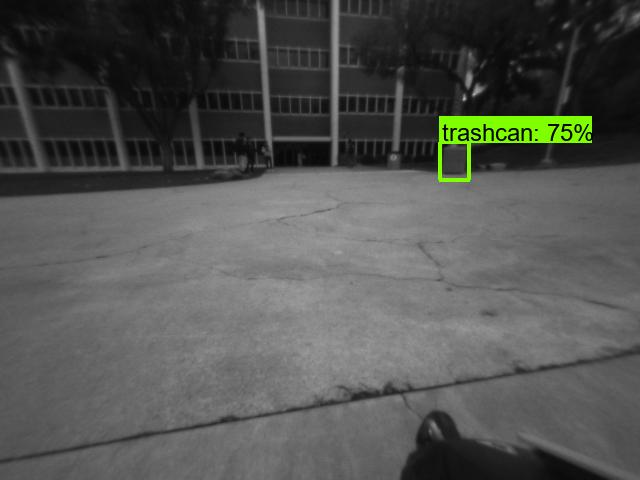trashcan: (442, 146, 468, 178), (388, 147, 405, 173)
